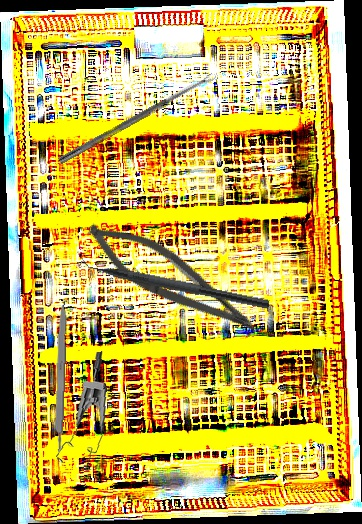Chopper: (73, 248, 273, 310)
Micro Scissor: (75, 210, 272, 346)
Scalpel Handle: (52, 299, 68, 455)
Speculum: (46, 351, 115, 474)
Surgical Spoon: (58, 72, 216, 166)
